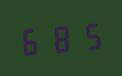eight: (47, 21, 74, 54)
five: (75, 18, 102, 52)
six: (18, 23, 45, 57)
